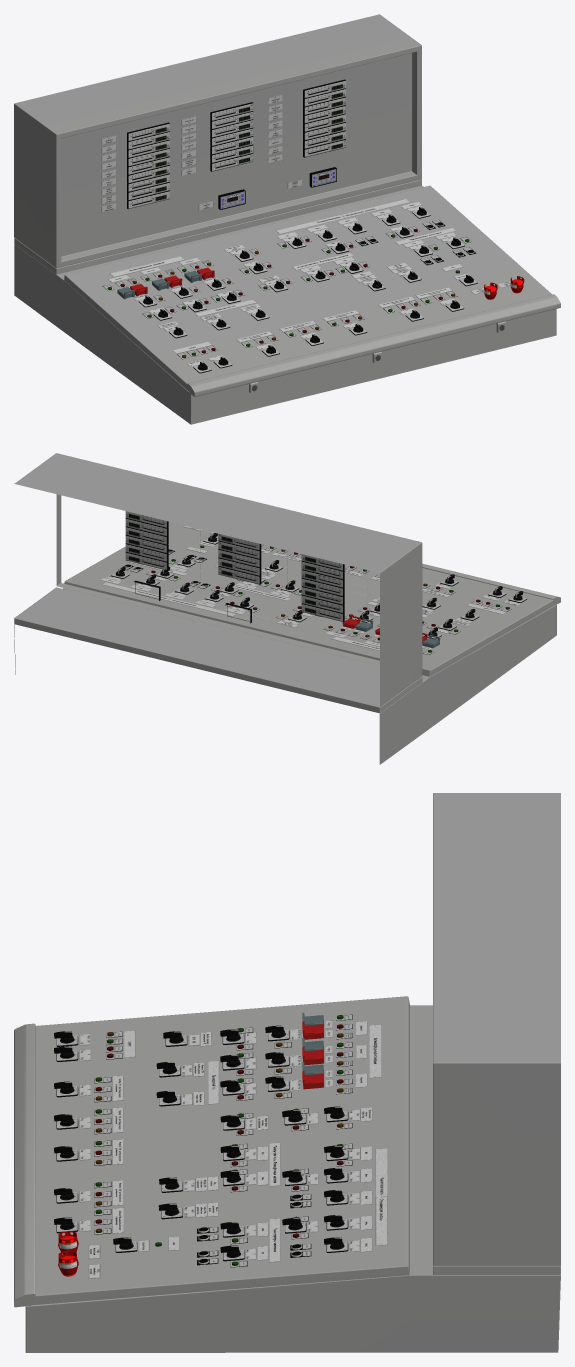
File: Console_DP6.glb
3 renders of one model, top to bottom at view 1: azimuth 30°, elevation 25°; view 2: azimuth 150°, elevation 25°; view 3: azimuth 270°, elevation 25°, orthographic. The views are drawn at different scales.
Parts seen in each view (by area): view 1: Obj_Korpus YGKS_2, Korpus YGKS, Obj_Korpus YGKS, Obj_Korpus YGKS_1, sm_shildiki, Obj_sm_shildik, sm_shildik, Obj_sm_shildik_1; view 2: Korpus YGKS, Obj_Korpus YGKS_2, Obj_Korpus YGKS, sm_shildik, Obj_sm_shildik_1, Obj_sm_shildik, Obj_Korpus YGKS_1, Obj_F1765.2-AD_14, Obj_F1765.2-AD_4, Obj_F1765.2-AD_7, Obj_F1765.2-AD_17, Obj_F1765.2-AD_22 (+10 smaller); view 3: Korpus YGKS, Obj_Korpus YGKS_2, Obj_Korpus YGKS, Obj_Korpus YGKS_1, Obj_sm_shildik, sm_shildik, Obj_sm_shildik_1.
Boxes of the visible parts, box(x1,y1,x2,y2) form: Obj_Korpus YGKS_2: box(14, 14, 421, 268); Korpus YGKS: box(14, 179, 551, 391); Obj_Korpus YGKS: box(14, 185, 556, 424); Obj_Korpus YGKS_1: box(187, 294, 560, 396); sm_shildiki: box(101, 95, 282, 212); Obj_sm_shildik: box(108, 205, 459, 366); sm_shildik: box(206, 201, 510, 342); Obj_sm_shildik_1: box(109, 198, 456, 353); Korpus YGKS: box(14, 521, 554, 713); Obj_Korpus YGKS_2: box(14, 453, 422, 706); Obj_Korpus YGKS: box(14, 588, 556, 764); sm_shildik: box(100, 525, 450, 624); Obj_sm_shildik_1: box(102, 549, 506, 650); Obj_sm_shildik: box(106, 564, 521, 646); Obj_Korpus YGKS_1: box(422, 563, 560, 605); Obj_F1765.2-AD_14: box(218, 557, 261, 575); Obj_F1765.2-AD_4: box(301, 578, 344, 596); Obj_F1765.2-AD_7: box(301, 603, 344, 621); Obj_F1765.2-AD_17: box(125, 543, 168, 561); Obj_F1765.2-AD_22: box(125, 552, 168, 570); Korpus YGKS: box(32, 996, 560, 1305); Obj_Korpus YGKS_2: box(433, 793, 560, 1265); Obj_Korpus YGKS: box(25, 1005, 560, 1352); Obj_Korpus YGKS_1: box(14, 1023, 35, 1307); Obj_sm_shildik: box(79, 1021, 372, 1260); sm_shildik: box(88, 1064, 372, 1278); Obj_sm_shildik_1: box(112, 1024, 387, 1262).
Size of the model in its own units: 1.4 by 0.6994 by 1.2.
Materials: 60 (54 with a texture image).
